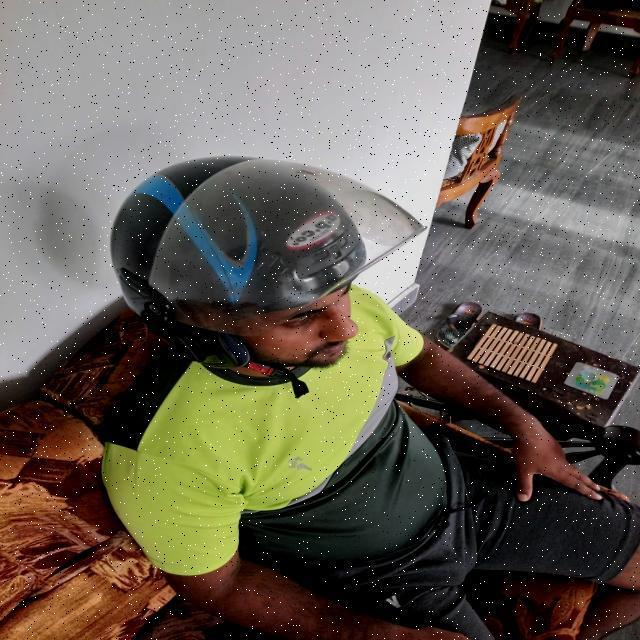helmet: (108, 154, 427, 398)
